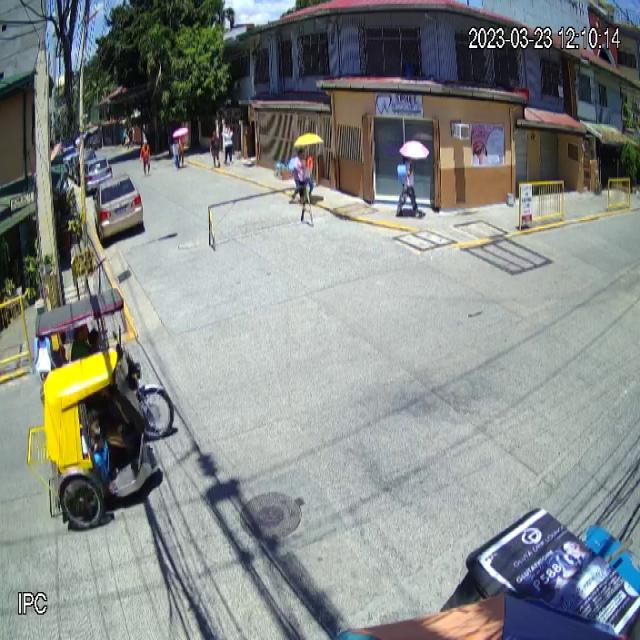Car: (93, 172, 143, 245)
Tricycle: (27, 287, 175, 530)
